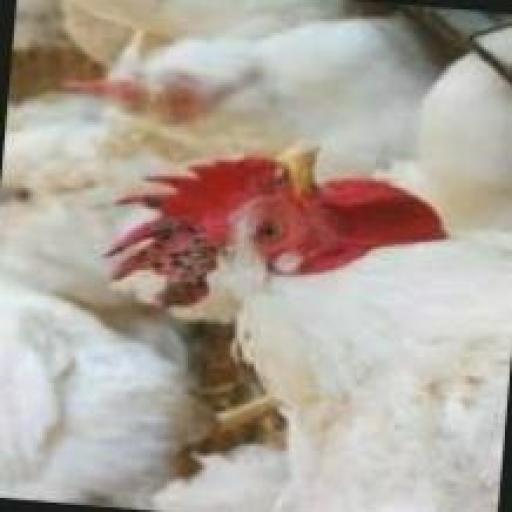disease: (112, 209, 220, 309)
